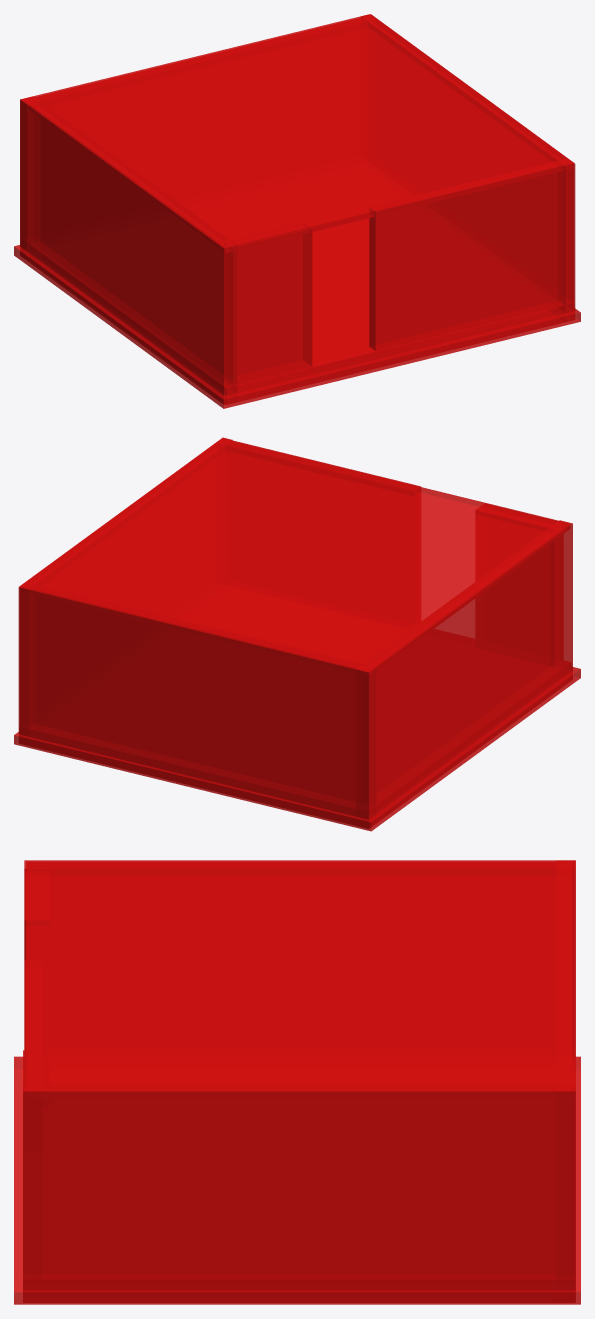
The model's file is SM_Bld_City_Section_Base_07_Collision.fbx.
The picture shows the model from 3 angles, top to bottom: view 1: azimuth 30°, elevation 25°; view 2: azimuth 150°, elevation 25°; view 3: azimuth 270°, elevation 25°; orthographic projection. The views are drawn at different scales.
Parts seen in each view (by area): view 1: SM_Bld_City_Section_Base_07_Collision; view 2: SM_Bld_City_Section_Base_07_Collision; view 3: SM_Bld_City_Section_Base_07_Collision.
Part boxes in pixels (left/top/right/bottom): SM_Bld_City_Section_Base_07_Collision: left=14, top=14, right=580, bottom=408; SM_Bld_City_Section_Base_07_Collision: left=14, top=437, right=580, bottom=831; SM_Bld_City_Section_Base_07_Collision: left=14, top=860, right=580, bottom=1304.
Size of the model in its own units: 762 by 319 by 775.
